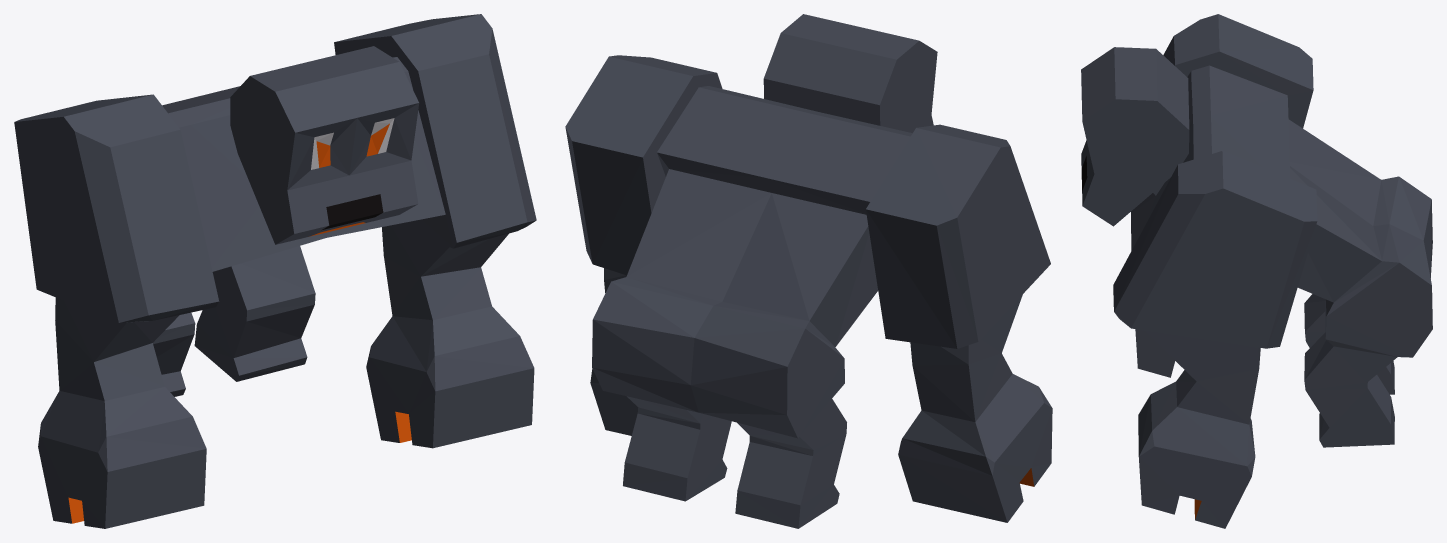
File: kong_000025.obj
3 views of the same model, side by side, from view 1: azimuth 30°, elevation 25°; view 2: azimuth 150°, elevation 25°; view 3: azimuth 270°, elevation 25° (orthographic). The views are drawn at different scales.
Parts seen in each view (by area): view 1: Cube; view 2: Cube; view 3: Cube.
Boxes of the visible parts, box(x1,y1,x2,y2) form: Cube: box(14, 14, 536, 528); Cube: box(565, 14, 1052, 528); Cube: box(1081, 14, 1432, 528).
Size of the model in its own units: 5.85 by 5.68 by 4.9.
1 material, 1 textured.
